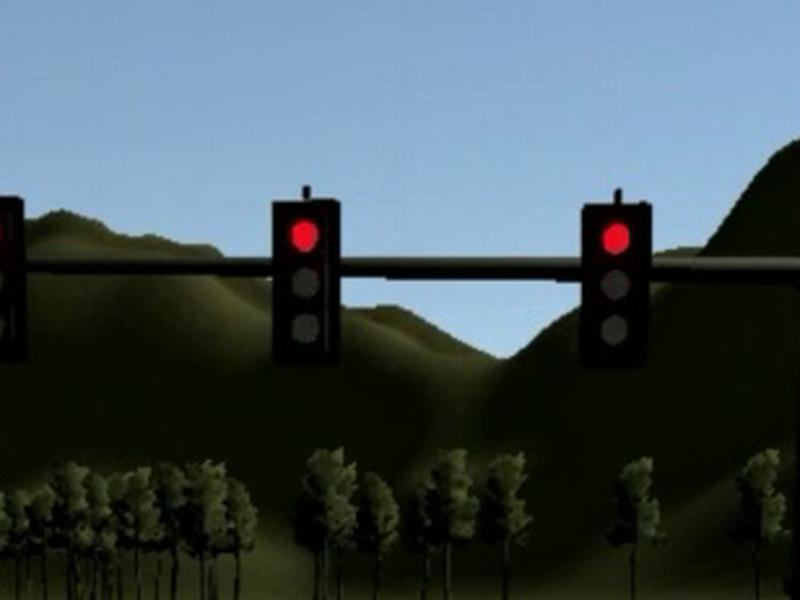Red: (577, 202, 654, 365), (270, 198, 343, 360)
